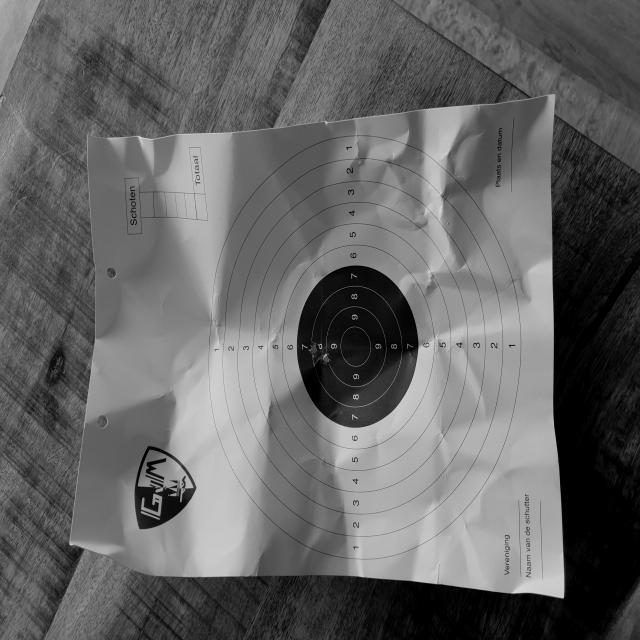8: (308, 342, 319, 358)
9: (322, 352, 332, 365)
Target: (208, 134, 522, 562)
black_contour: (296, 265, 418, 427)
